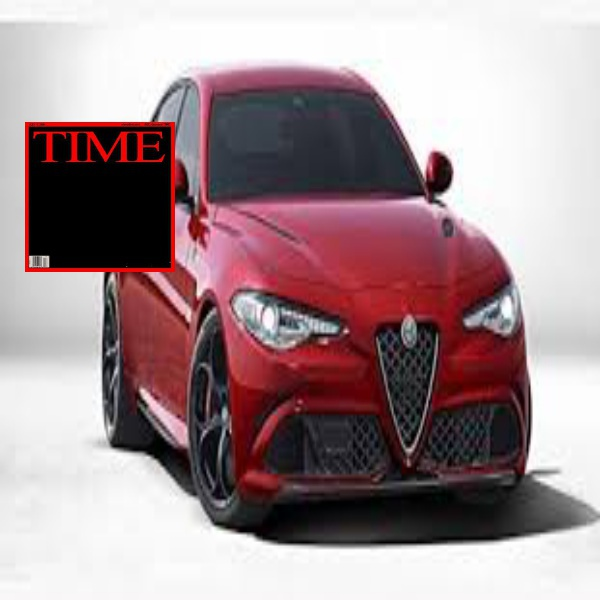time_cover: (21, 117, 184, 271)
